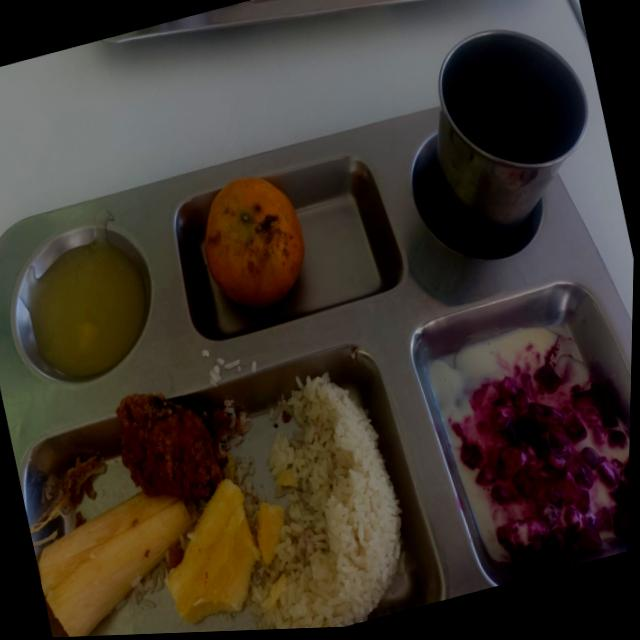arroz: (251, 375, 401, 629)
mandarina: (204, 178, 303, 308)
pescado frito: (116, 394, 221, 501), (30, 457, 104, 534)
yuca: (39, 494, 188, 636), (165, 480, 283, 622), (30, 526, 37, 531), (37, 523, 43, 527)
